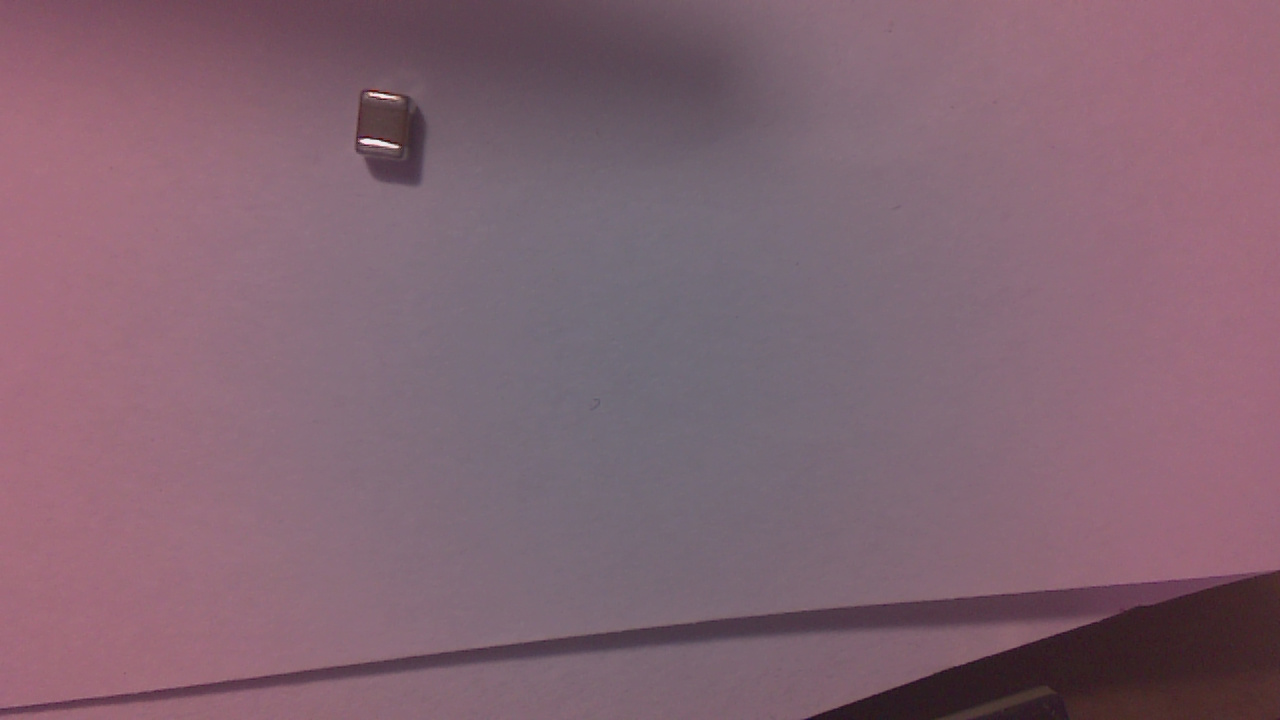Condensator: (362, 93, 425, 170)
